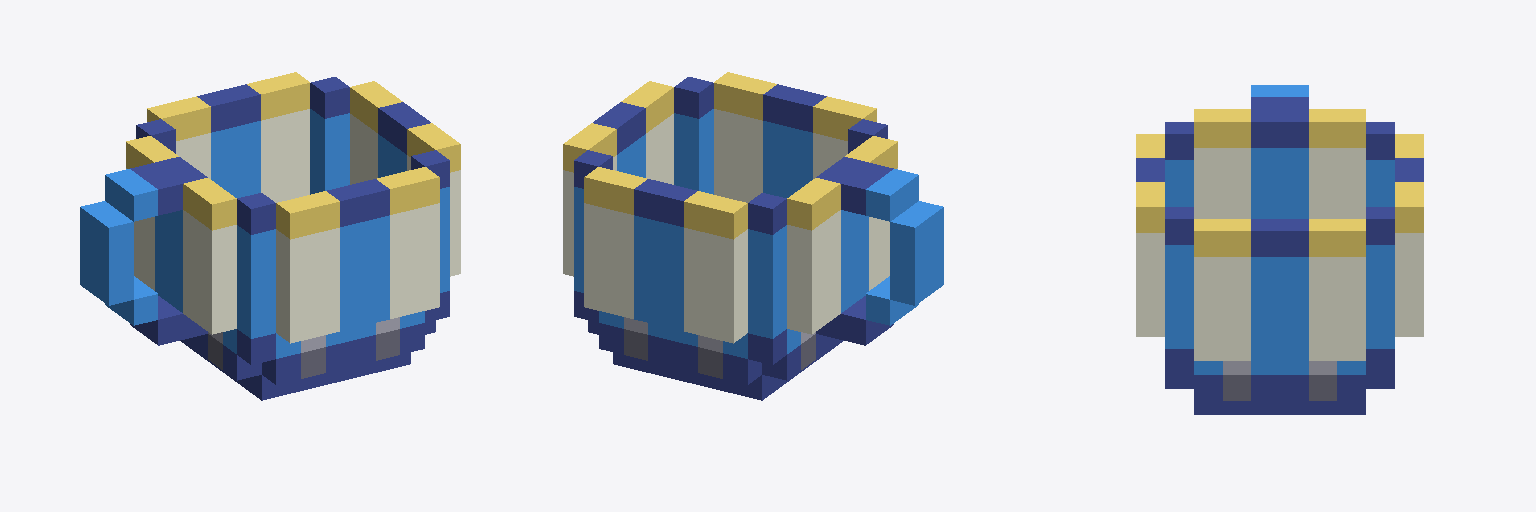
3 renders of one model, left to right at view 1: azimuth 30°, elevation 25°; view 2: azimuth 150°, elevation 25°; view 3: azimuth 270°, elevation 25°, orthographic.
Visible parts, largest first — view 1: Cup.053_Cup.054; view 2: Cup.053_Cup.054; view 3: Cup.053_Cup.054.
Part boxes in pixels (left/top/right/bottom): Cup.053_Cup.054: left=80, top=72, right=460, bottom=400; Cup.053_Cup.054: left=563, top=72, right=943, bottom=400; Cup.053_Cup.054: left=1136, top=85, right=1423, bottom=414.
Size of the model in its own units: 1.3 by 0.8 by 1.
Materials: 1 (1 with a texture image).